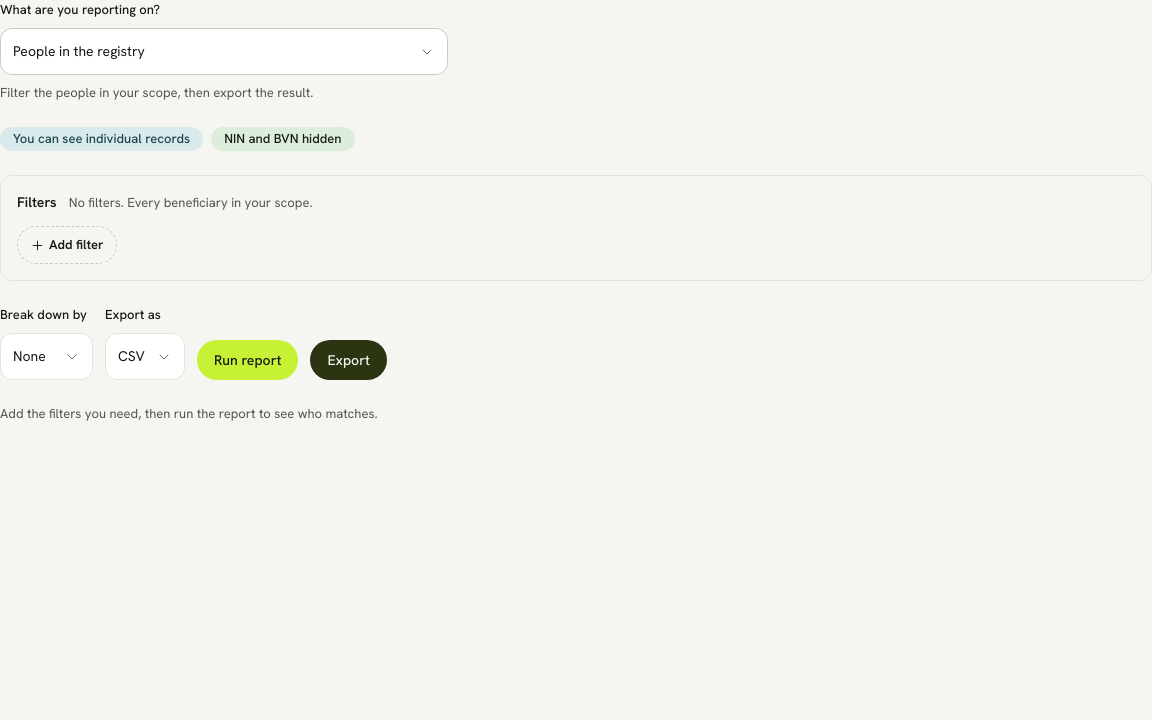
Test: ReportBuilderPanel › searches a long option list instead of scrolling twenty-seven checkboxes
This screenshot has width=1152, height=720.
Click the button "Add filter" at (67, 245), box [17,226,116,264]
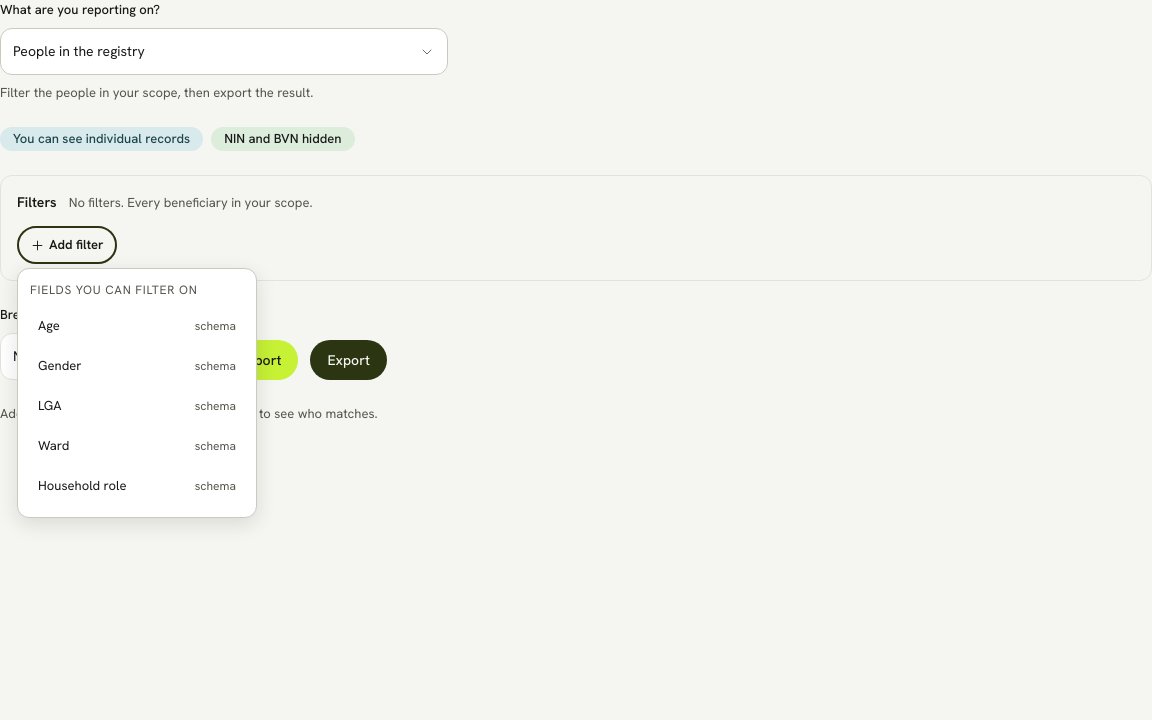
Click the menu item "LGA schema" at (137, 406), box [30,388,244,424]
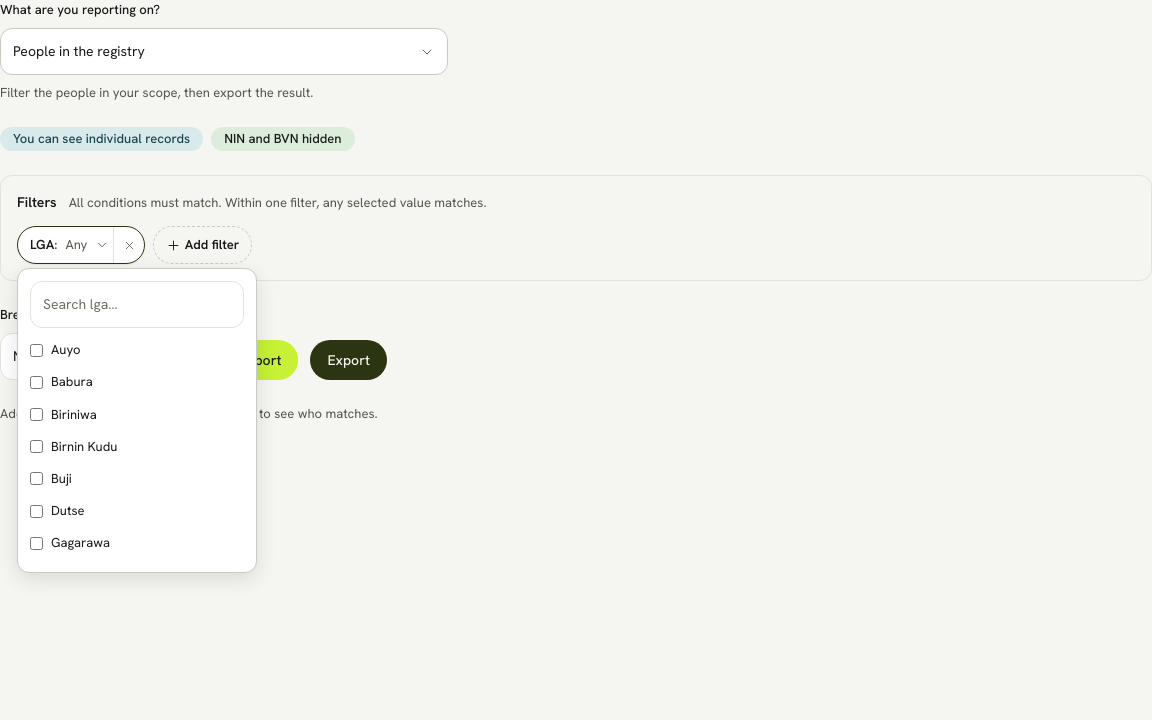
Type "dut" into the field with placeholder "Search lga…" at (137, 305), box [30,281,244,328]
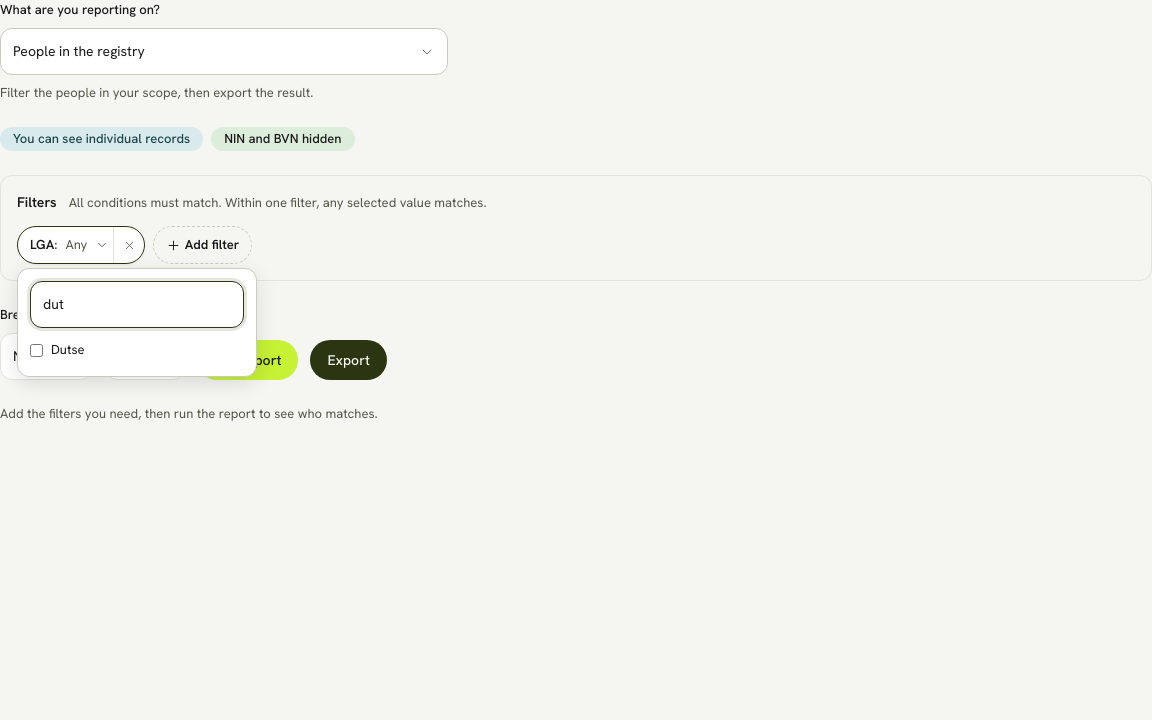
Expected: the checkbox labelled "Dutse" is shown, [30,344,43,357]
Expected: the text "Auyo" is gone
